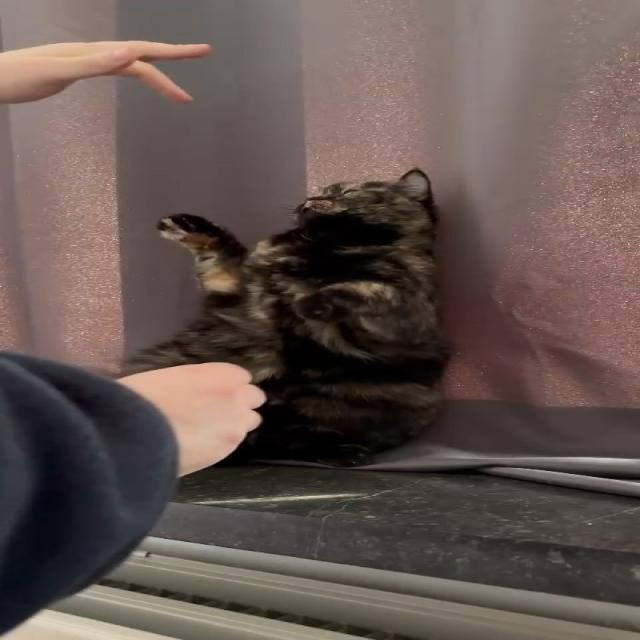authorized: (116, 166, 453, 468)
